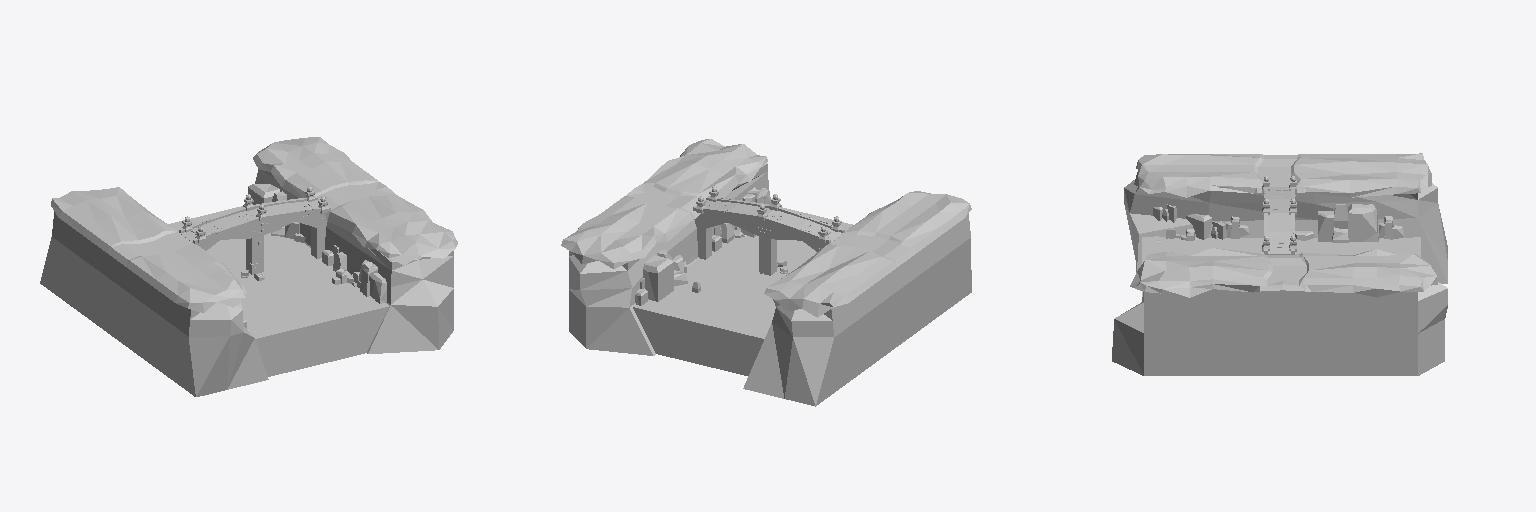
The model's file is Rock Bridge and Environment .obj.
3 renders of one model, left to right at view 1: azimuth 30°, elevation 25°; view 2: azimuth 150°, elevation 25°; view 3: azimuth 270°, elevation 25°, orthographic.
Visible parts, largest first — view 1: Environment:group26, Rock_Bridge_2; view 2: Environment:group26, Rock_Bridge_2; view 3: Environment:group26, Rock_Bridge_2.
Boxes of the visible parts, x1,y1,x2,y2 form: Environment:group26: [40, 137, 457, 396]; Rock_Bridge_2: [179, 187, 330, 274]; Environment:group26: [561, 139, 971, 406]; Rock_Bridge_2: [693, 186, 844, 275]; Environment:group26: [1112, 153, 1447, 375]; Rock_Bridge_2: [1262, 176, 1296, 254].
Bounding box in the file's own units: 2408 × 941 × 2525.